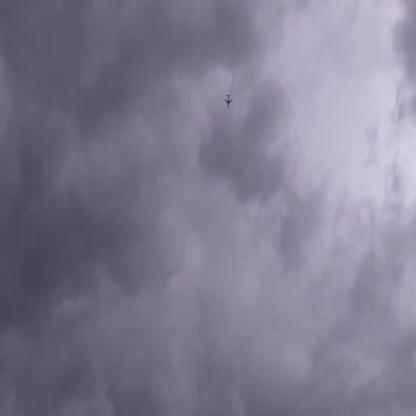CIV_Plane: (226, 94, 234, 108)
